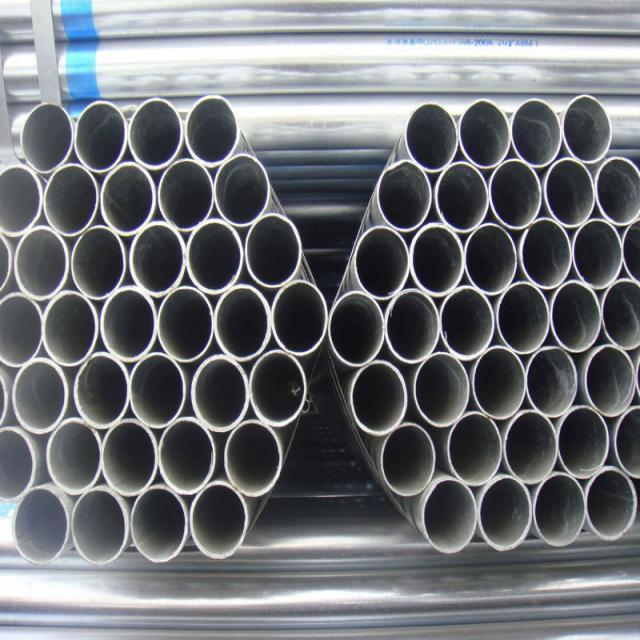pipe: (12, 485, 73, 566), (71, 486, 129, 566), (190, 482, 249, 560), (130, 485, 188, 564), (224, 421, 283, 498), (411, 353, 471, 428), (191, 355, 248, 433), (250, 350, 307, 428), (159, 418, 216, 496), (349, 361, 408, 436), (214, 285, 271, 362), (102, 419, 157, 498), (129, 221, 185, 298), (272, 280, 328, 357), (130, 353, 186, 430), (329, 291, 385, 368), (100, 287, 156, 363), (12, 358, 68, 434), (503, 410, 559, 486), (73, 353, 128, 430), (46, 419, 101, 496), (578, 345, 636, 418), (245, 214, 302, 288), (187, 219, 243, 294), (447, 413, 503, 488), (158, 287, 213, 363), (441, 286, 496, 362), (479, 475, 533, 552), (100, 162, 156, 236), (71, 225, 126, 300), (43, 291, 98, 366), (214, 154, 271, 226), (43, 163, 98, 237), (158, 158, 213, 232), (14, 226, 68, 301), (411, 223, 465, 298), (386, 289, 440, 364), (473, 346, 527, 421), (382, 423, 436, 498), (128, 98, 183, 170), (185, 95, 239, 168), (557, 406, 611, 479), (354, 226, 409, 297), (587, 467, 639, 542), (497, 282, 550, 355), (436, 161, 490, 232), (535, 473, 586, 548), (520, 218, 573, 290), (20, 103, 73, 174), (490, 159, 543, 230), (74, 101, 126, 173), (467, 223, 518, 296), (552, 281, 603, 353), (424, 480, 476, 550), (545, 157, 596, 228), (406, 103, 458, 172), (460, 100, 512, 169), (528, 347, 578, 418), (379, 163, 431, 229), (575, 219, 623, 290), (514, 99, 562, 168), (565, 95, 613, 164)
